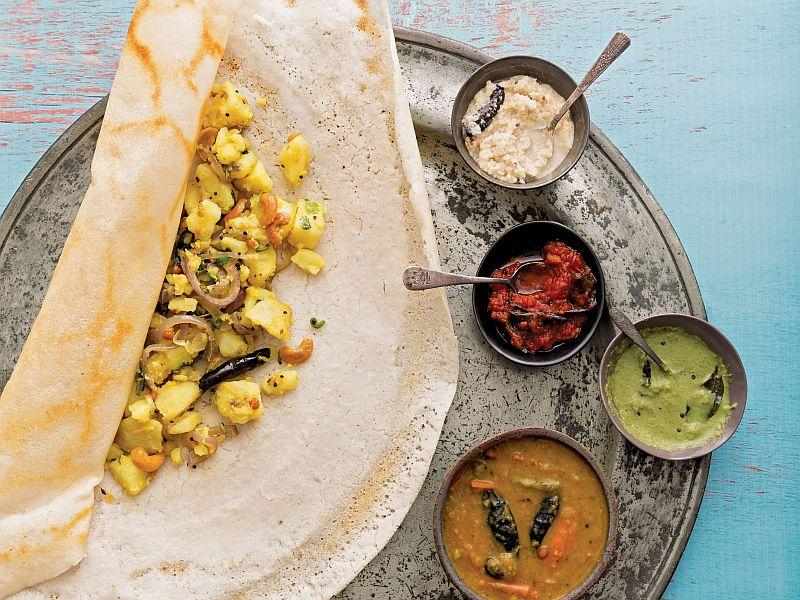dosa: (3, 4, 464, 600)
